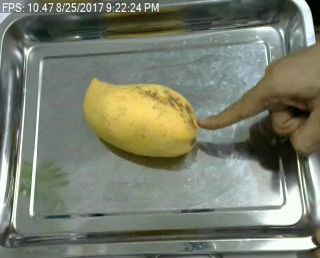Mango: (83, 76, 200, 161)
